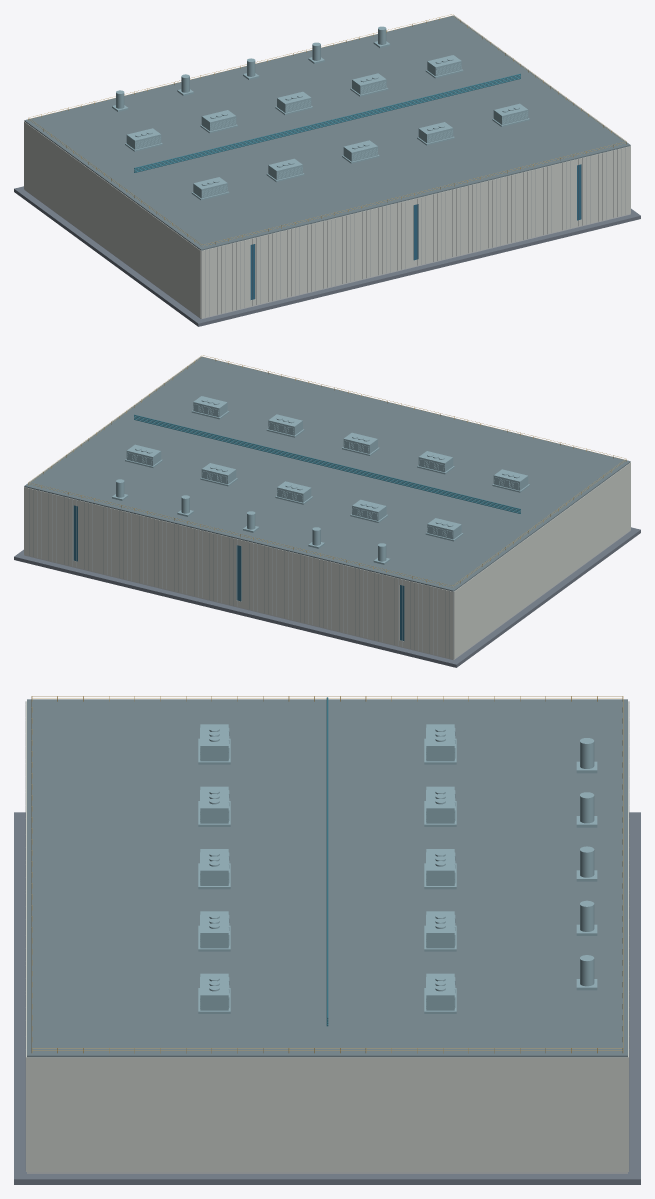
Rendered from MASK.glb.
The picture shows the model from 3 angles, top to bottom: view 1: azimuth 30°, elevation 25°; view 2: azimuth 150°, elevation 25°; view 3: azimuth 270°, elevation 25°; orthographic projection. The views are drawn at different scales.
Parts seen in each view (by area): view 1: MASK; view 2: MASK; view 3: MASK.
Boxes of the visible parts, <box> form: MASK: <box>14,14,640,326</box>; MASK: <box>14,355,640,667</box>; MASK: <box>14,696,640,1184</box>.
Size of the model in its own units: 169 by 32.6 by 122.
